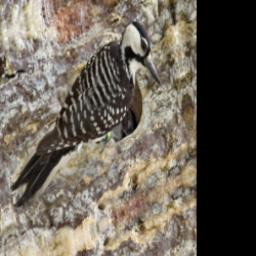Woodpecker: (0, 10, 167, 216)
